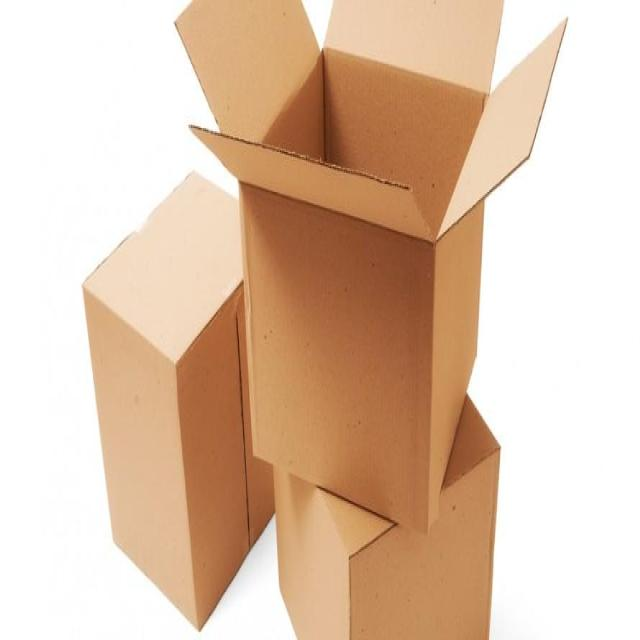cardboard: (173, 0, 566, 530), (83, 168, 300, 628)
